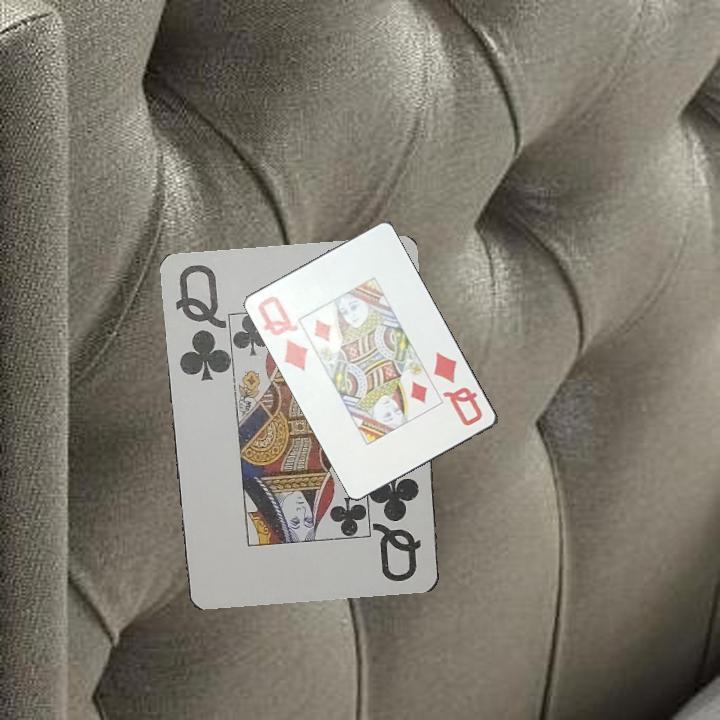Qc: (172, 261, 231, 385), (373, 469, 424, 586)
Qd: (255, 292, 312, 374), (430, 349, 486, 429)
